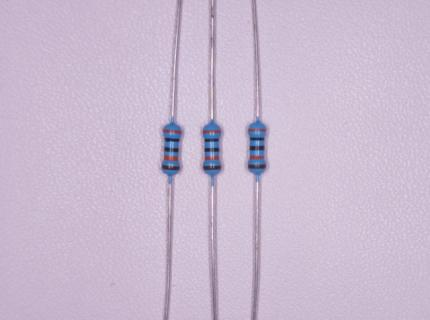Black band: (164, 147, 179, 152), (204, 148, 219, 152), (165, 138, 179, 142), (205, 138, 219, 142), (250, 137, 264, 141), (250, 146, 264, 150)
Brown band: (161, 164, 180, 170), (203, 166, 221, 170), (248, 165, 266, 169)
Orange band: (163, 129, 182, 134), (247, 128, 266, 132), (164, 156, 179, 161), (249, 155, 264, 160), (203, 130, 221, 134), (205, 156, 219, 160)
